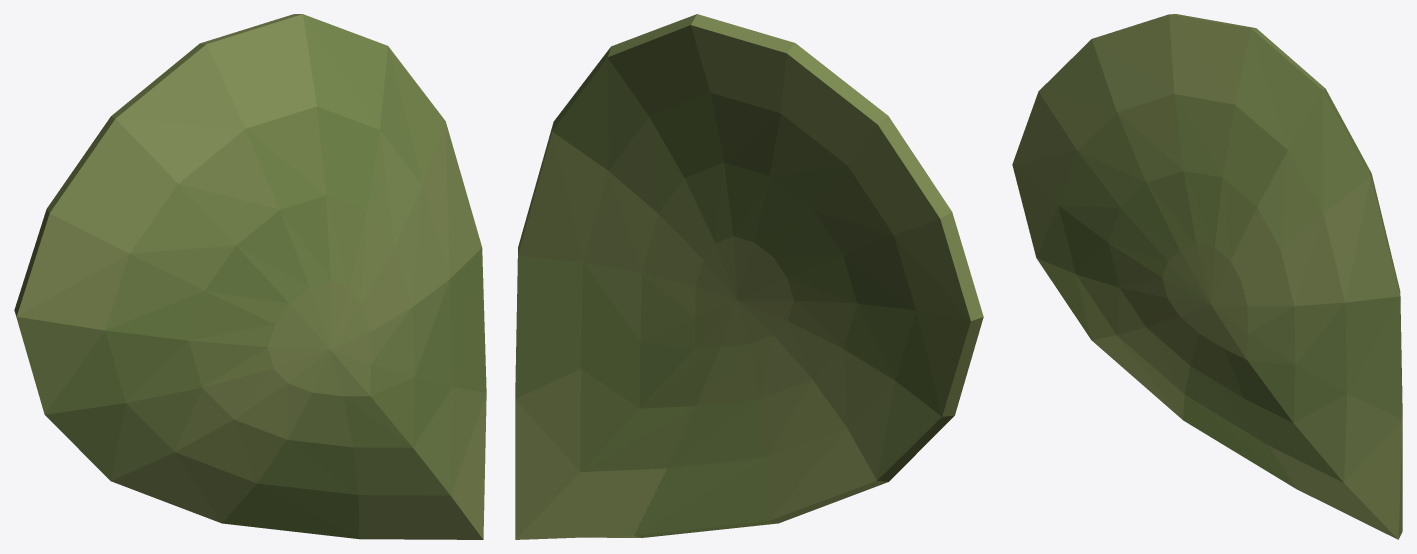
File: Shell_Plate.glb
3 views of the same model, side by side, from view 1: azimuth 30°, elevation 25°; view 2: azimuth 150°, elevation 25°; view 3: azimuth 330°, elevation 25° (orthographic). The views are drawn at different scales.
Visible parts, largest first — view 1: plate.shell_scale; view 2: plate.shell_scale; view 3: plate.shell_scale.
Part boxes in pixels (box(x1,y1,x2,y2)): plate.shell_scale: box(14, 14, 486, 539); plate.shell_scale: box(515, 14, 983, 539); plate.shell_scale: box(1012, 14, 1402, 539).
Size of the model in its own units: 0.8668 by 1 by 0.146.
